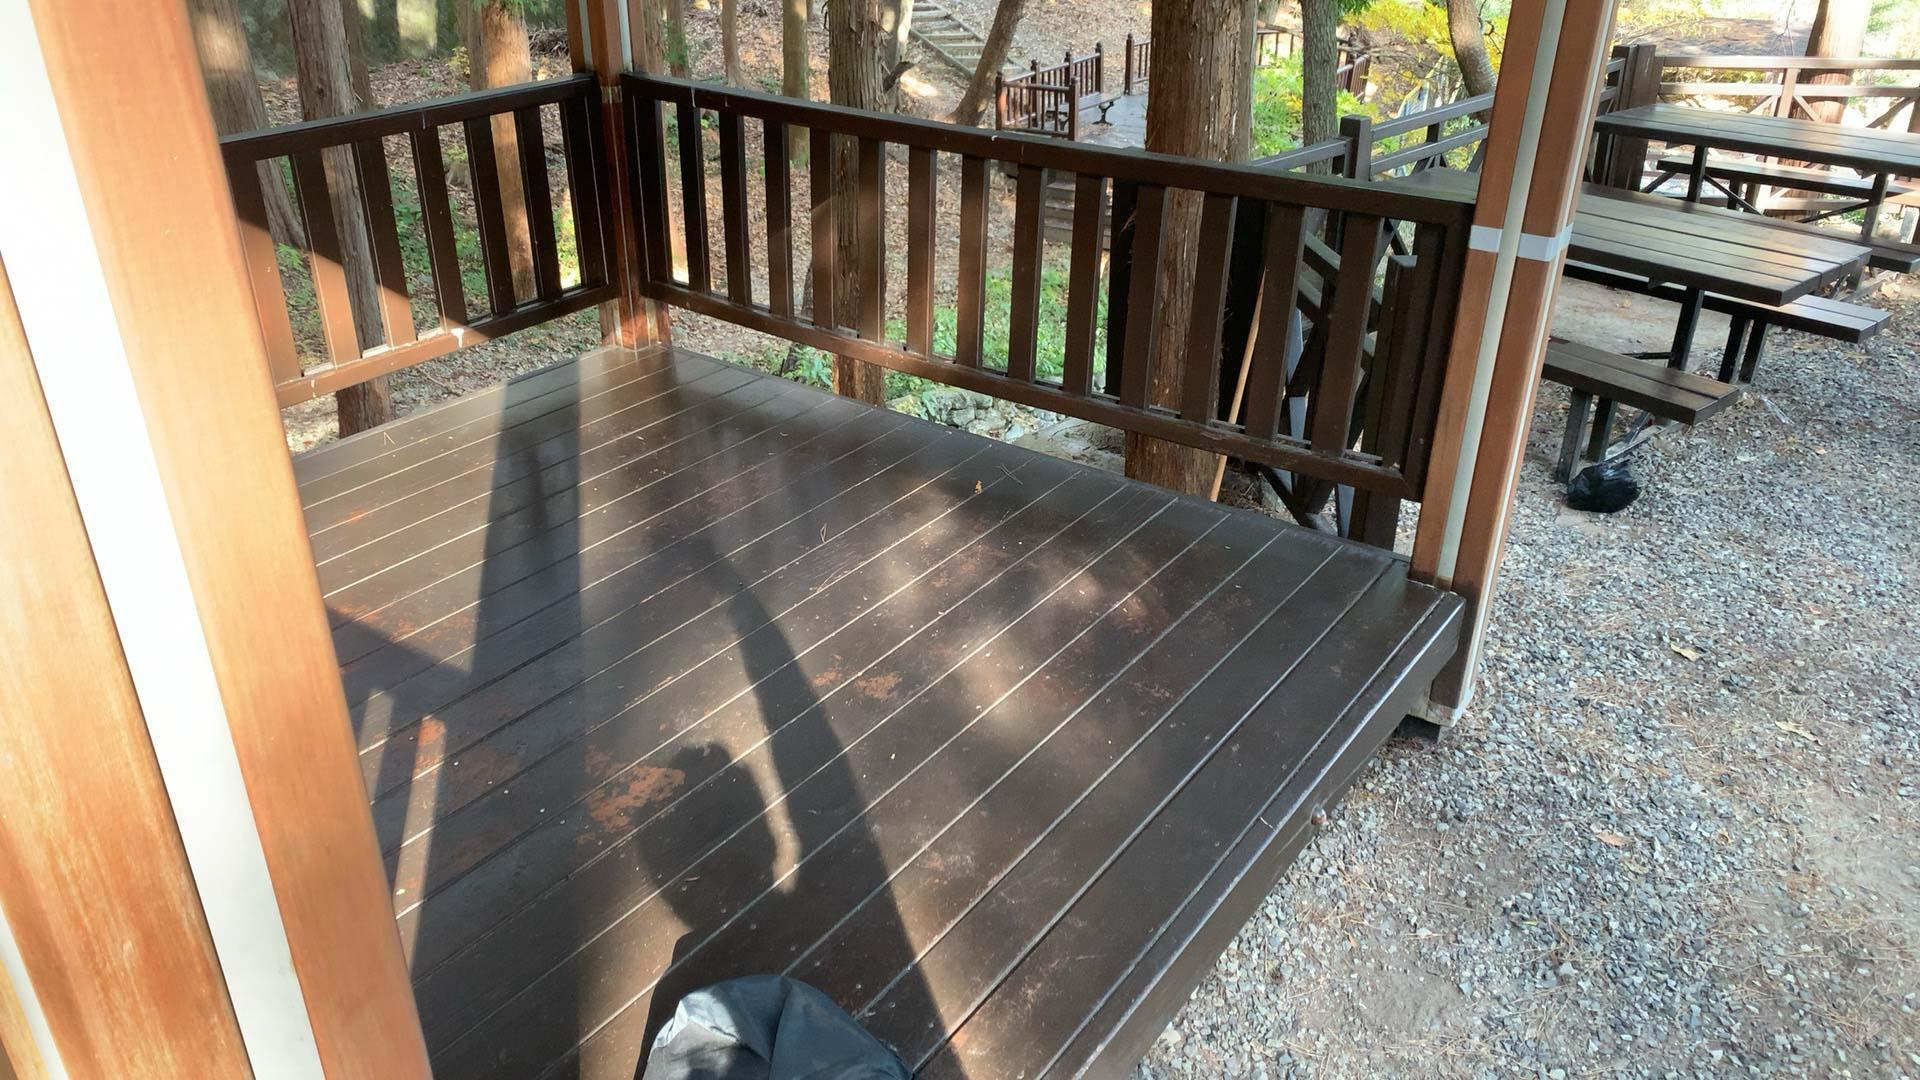black_bag: (1560, 455, 1640, 518)
